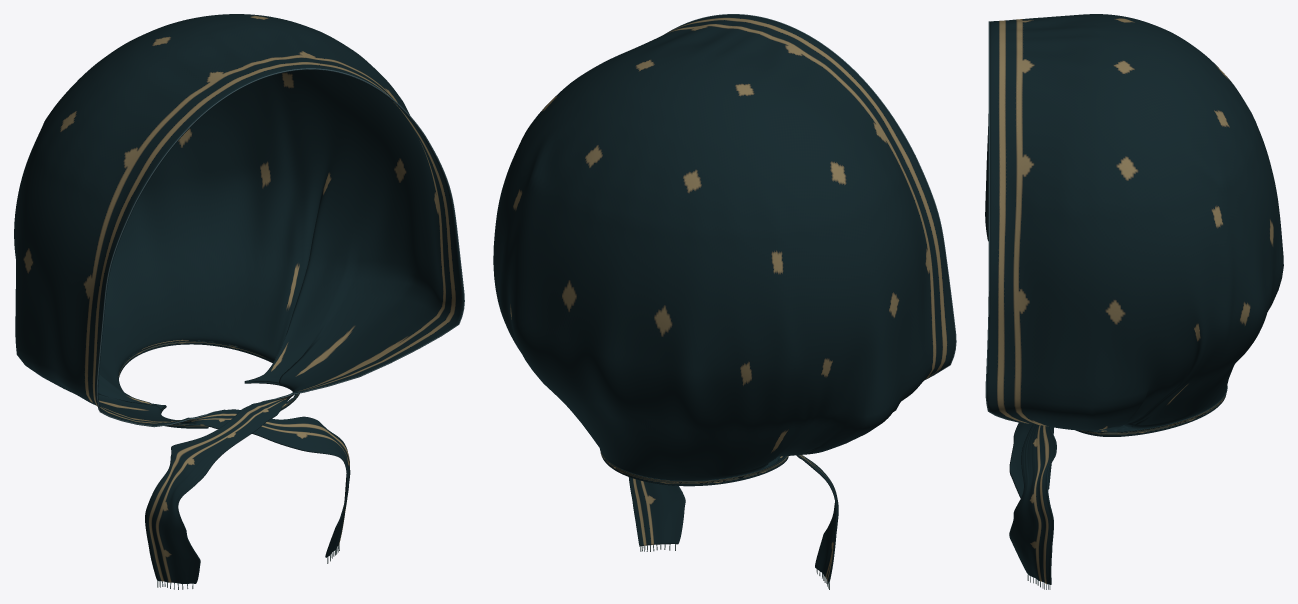
File: Feminine-bandeau-gathered-pashmina248-headgear.glb
3 views of the same model, side by side, from view 1: azimuth 30°, elevation 25°; view 2: azimuth 150°, elevation 25°; view 3: azimuth 270°, elevation 25° (orthographic). The views are drawn at different scales.
Visible parts, largest first — view 1: 226 headgear / Headwear / continuous woven pashmina239, 226 headgear / Headwear / face edge239; view 2: 226 headgear / Headwear / continuous woven pashmina239, 226 headgear / Headwear / face edge239; view 3: 226 headgear / Headwear / continuous woven pashmina239, 226 headgear / Headwear / face edge239.
Part boxes in pixels (left/top/right/bottom): 226 headgear / Headwear / continuous woven pashmina239: left=14, top=14, right=463, bottom=583; 226 headgear / Headwear / face edge239: left=96, top=68, right=464, bottom=427; 226 headgear / Headwear / continuous woven pashmina239: left=493, top=14, right=955, bottom=583; 226 headgear / Headwear / face edge239: left=664, top=14, right=956, bottom=379; 226 headgear / Headwear / continuous woven pashmina239: left=985, top=14, right=1283, bottom=584; 226 headgear / Headwear / face edge239: left=985, top=21, right=1027, bottom=423.
Size of the model in its own units: 1.02 by 1.35 by 0.7112.
Materials: 3 (1 with a texture image).
